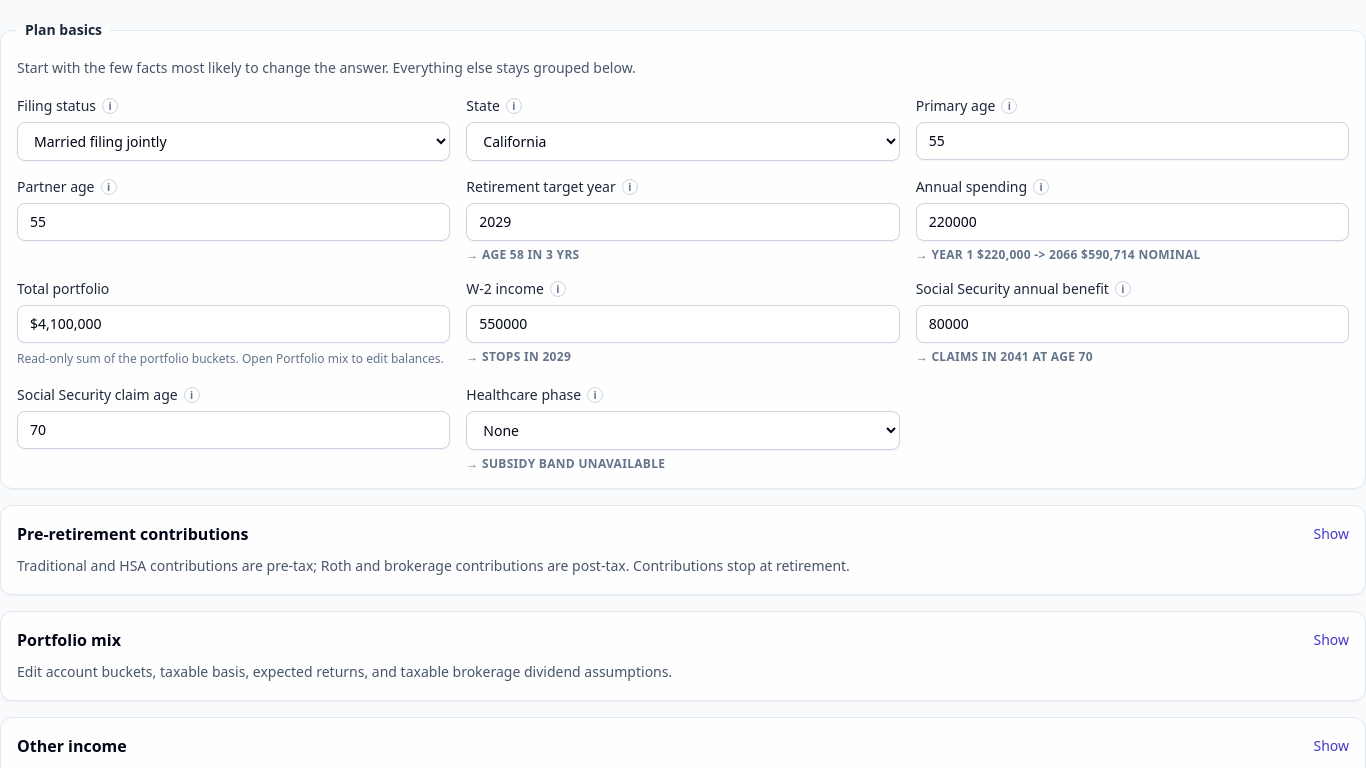
Scenario: BasicForm verdict layout › keeps partner age conditional in the verdict first-class controls
Expected: the field labelled "Partner age" is shown, [17,203,450,241]
Select "Single" in the dropdown labelled "Filing status" at (234,142), box [17,122,450,161]
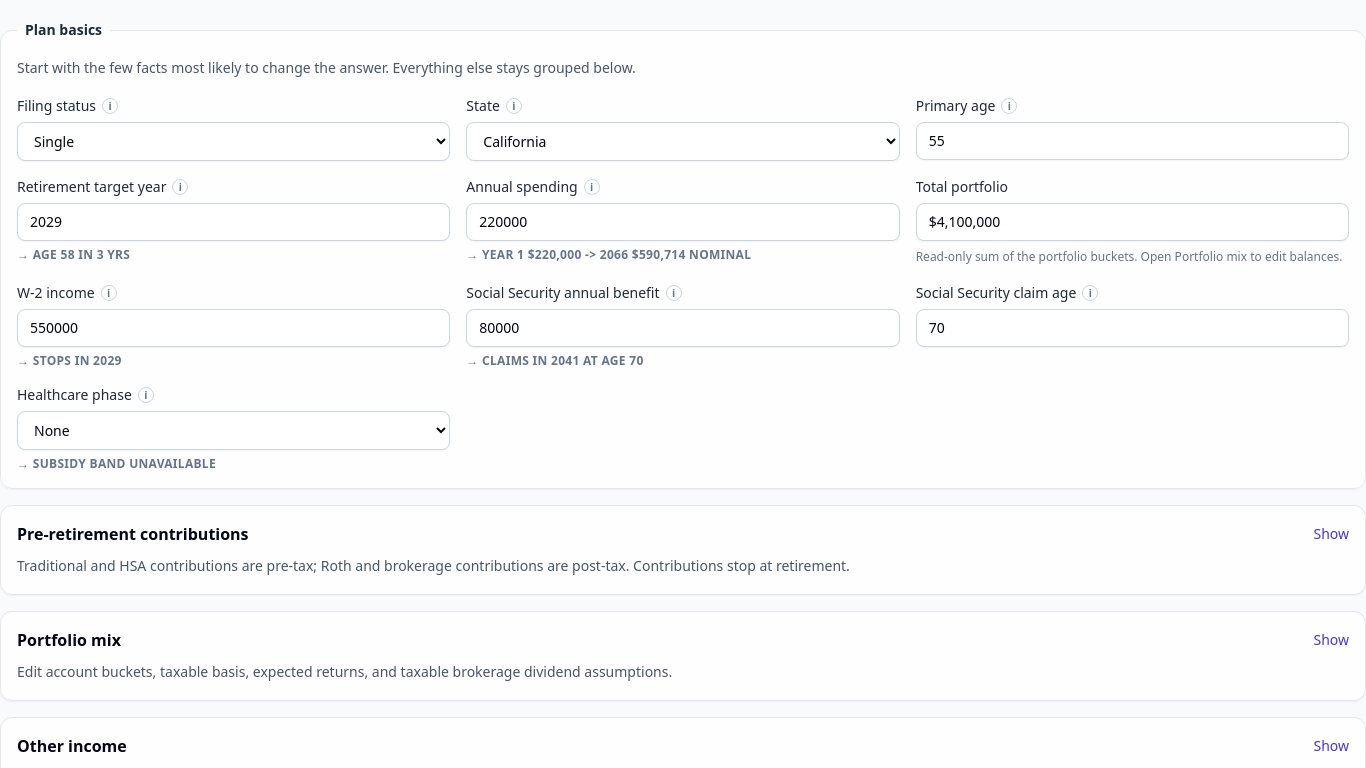
Expected: the label labelled "Partner age" is gone
Select "Married filing jointly" in the dropdown labelled "Filing status" at (234,142), box [17,122,450,161]
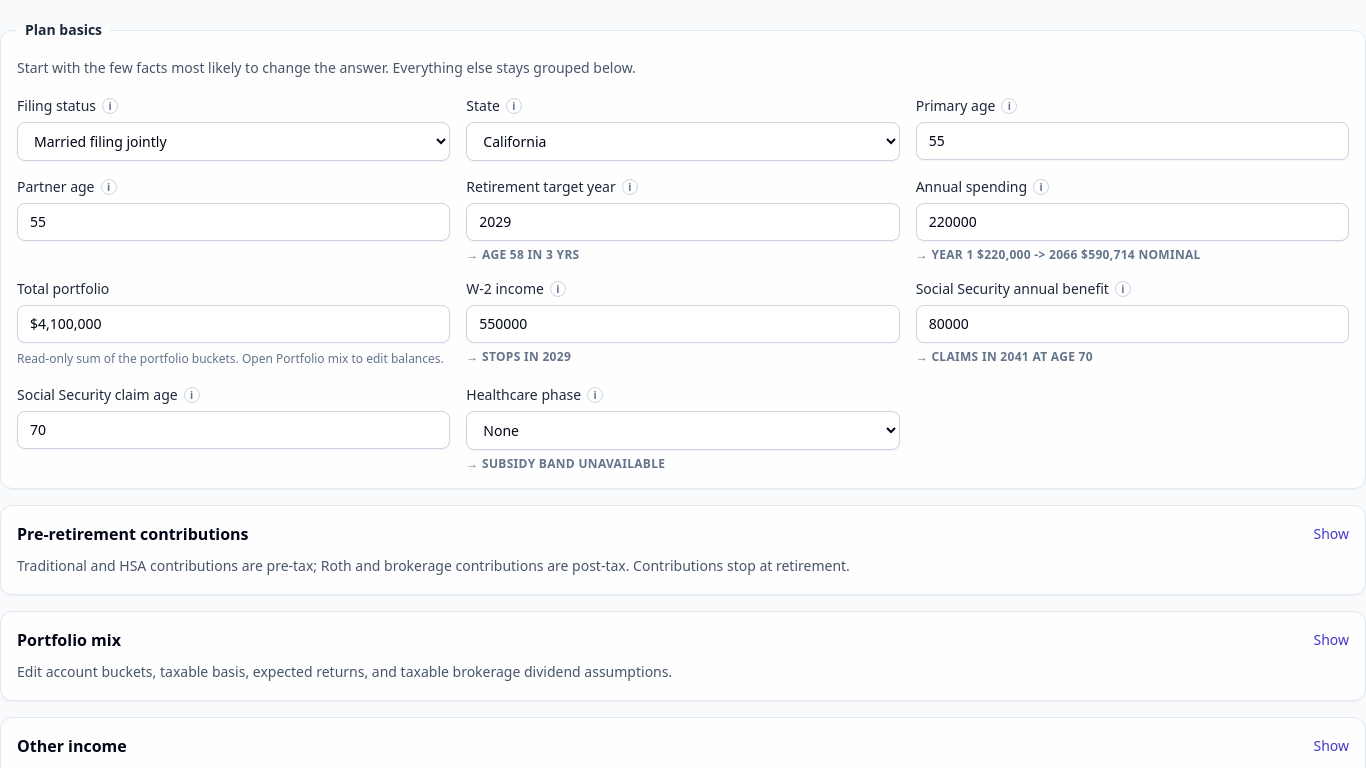
Expected: the field labelled "Partner age" is shown, [17,203,450,241]
